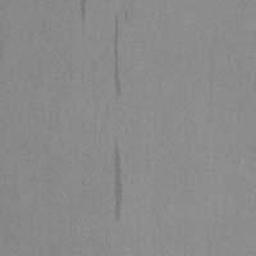Inclusion: (114, 138, 125, 221), (113, 14, 123, 96), (79, 0, 88, 24)
